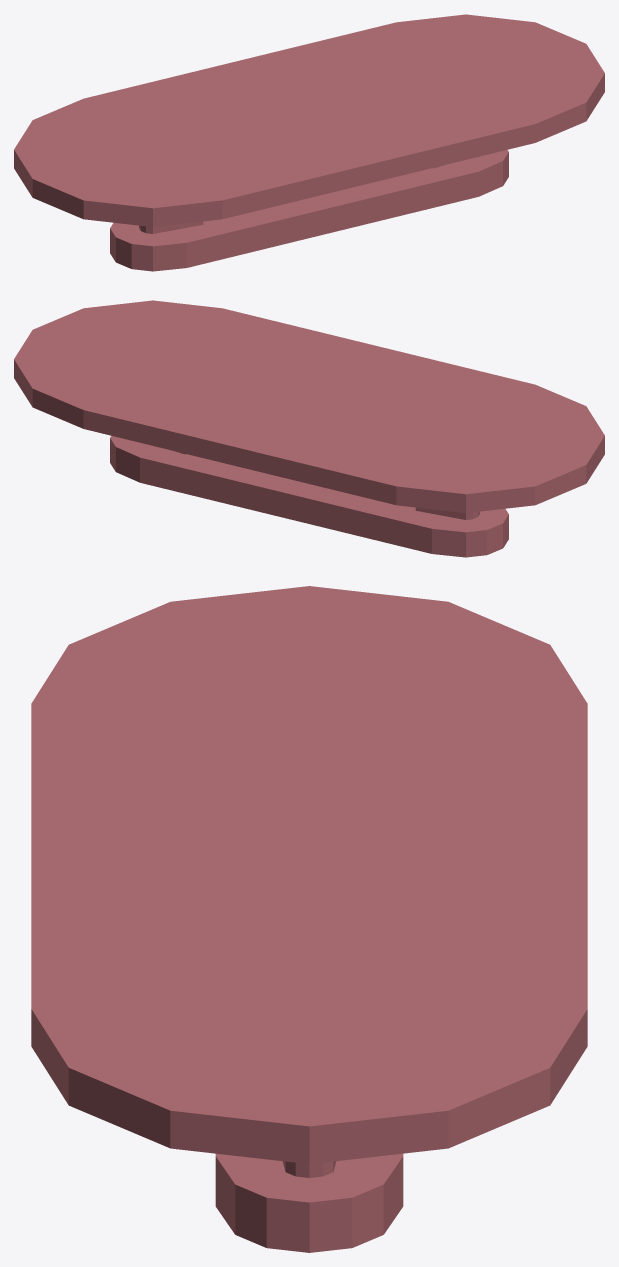
The model's file is living_room_table.glb.
3 views of the same model, one above another, from view 1: azimuth 30°, elevation 25°; view 2: azimuth 150°, elevation 25°; view 3: azimuth 270°, elevation 25° (orthographic). The views are drawn at different scales.
Visible parts, largest first — view 1: living room table; view 2: living room table; view 3: living room table.
Part boxes in pixels (box(x1,y1,x2,y2)): living room table: box(14, 14, 604, 271); living room table: box(14, 300, 604, 557); living room table: box(31, 586, 587, 1252).
Bounding box in the file's own units: 4.6 × 0.8245 × 2.
Materials: 1 (1 with a texture image).
